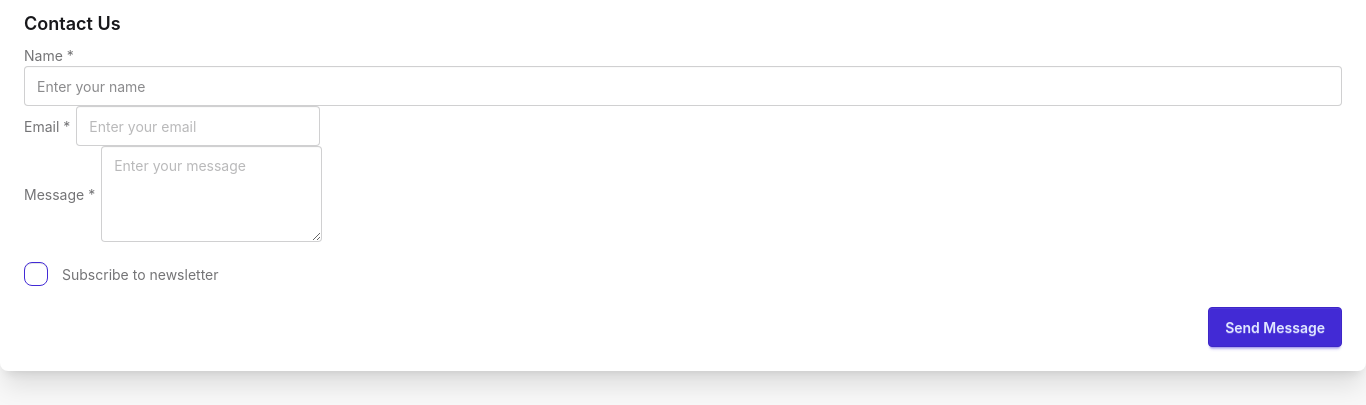
Test: ContactForm › validation errors › shows "Email is invalid" for an invalid email format
Type "Guybrush" into the field labelled "Name *" at (683,86), box left=24, top=66, right=1342, bottom=106
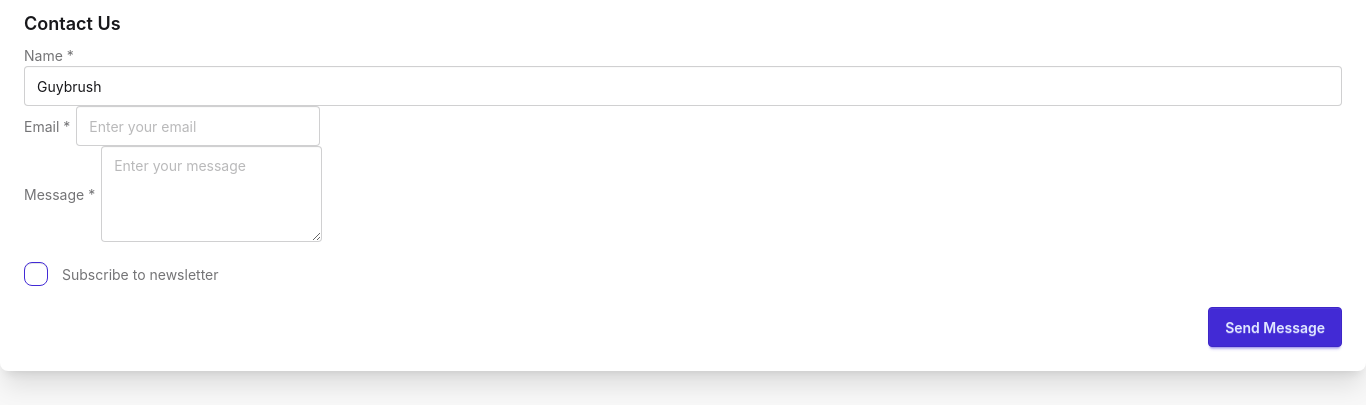
Type "not-an-email" into the field labelled "Email *" at (198,126), box left=76, top=106, right=320, bottom=146
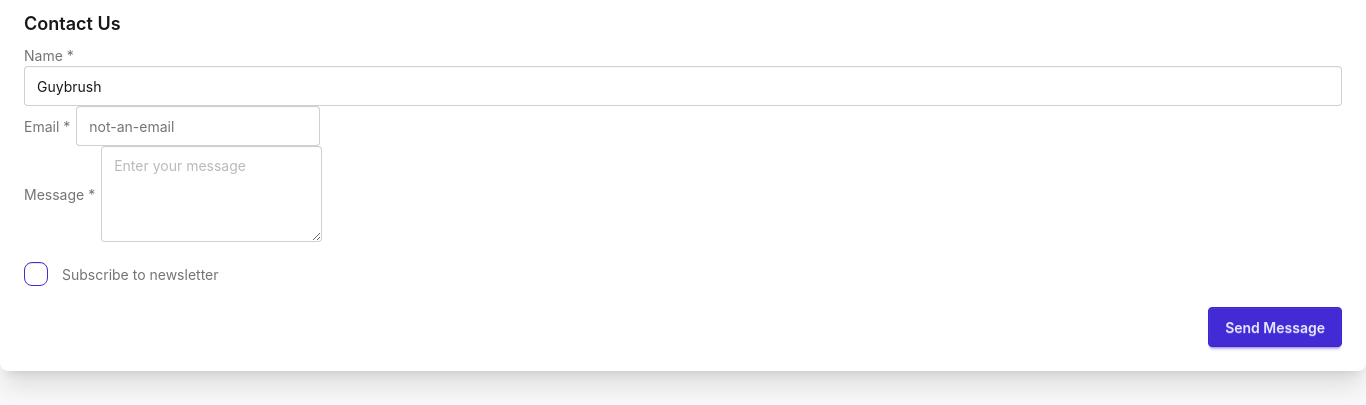
Type "Hello" into the text box labelled "Message *" at (212,194), box left=101, top=146, right=322, bottom=242
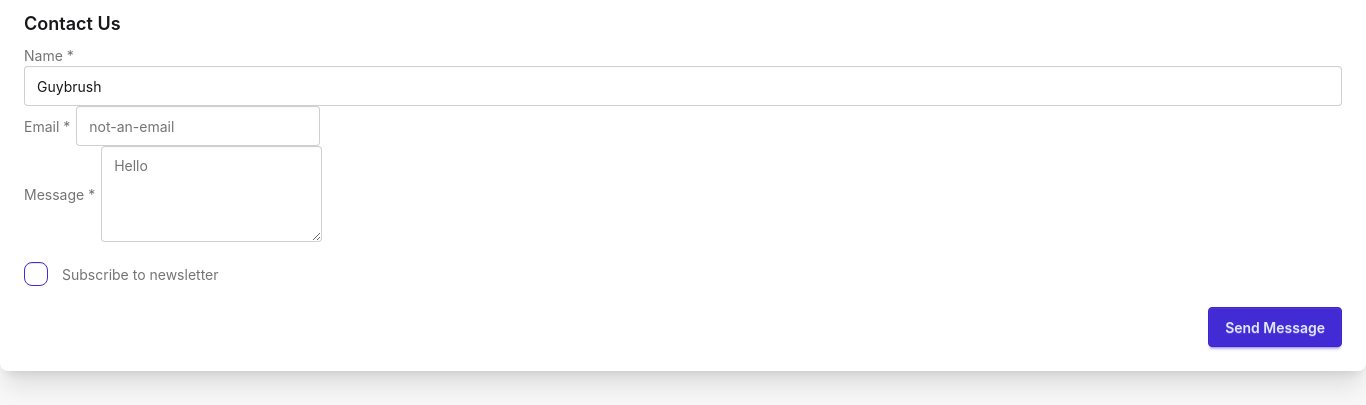
Click the button "Send Message" at (1275,327), box left=1208, top=307, right=1342, bottom=347
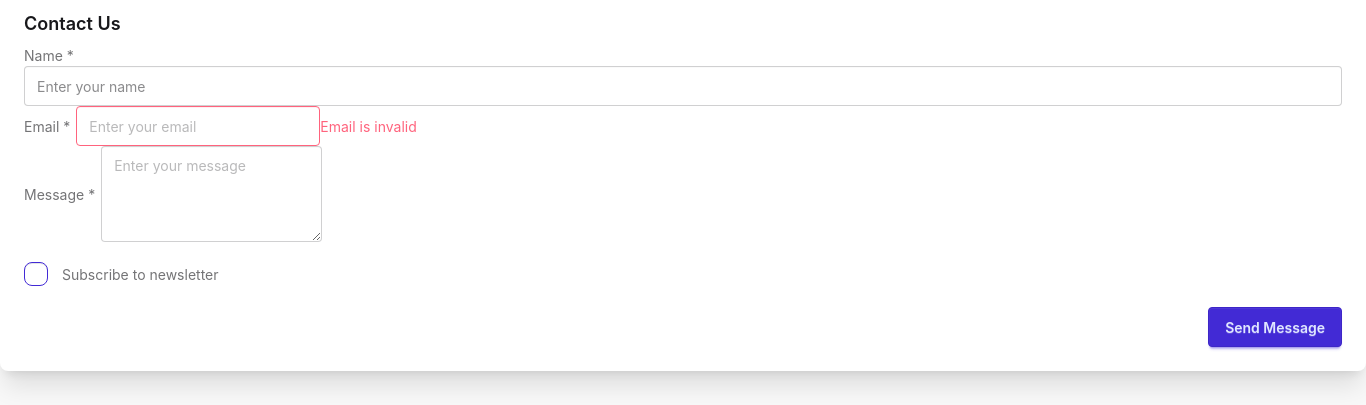
Expected: the text "Email is invalid" is shown, left=320, top=116, right=417, bottom=136
